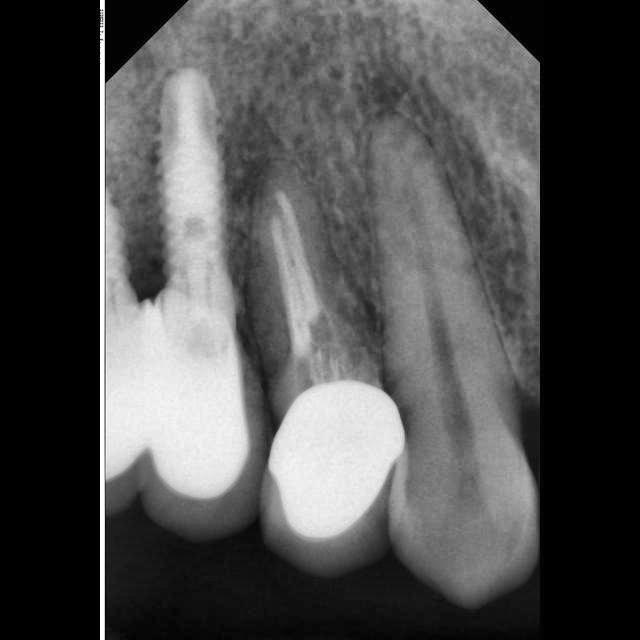teeth: (371, 124, 536, 606)
